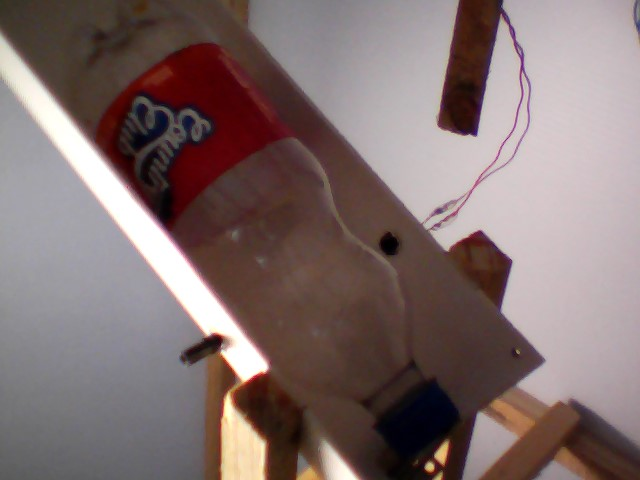plastico: (51, 1, 464, 459)
